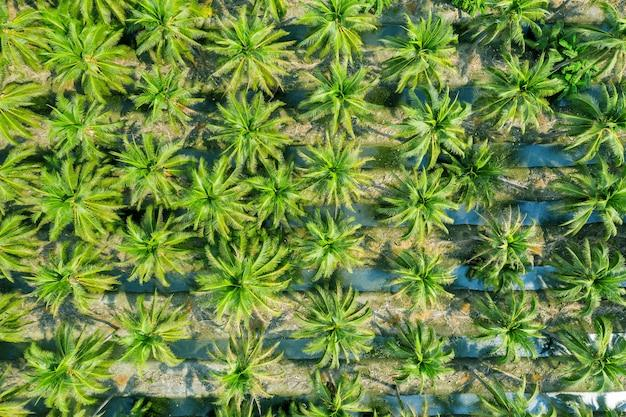coconut_tree: (194, 245, 280, 319), (456, 209, 542, 283), (288, 212, 374, 286), (201, 323, 287, 397), (389, 315, 475, 389), (299, 289, 385, 363), (210, 14, 290, 90), (297, 61, 377, 137), (378, 14, 458, 90), (303, 129, 383, 205), (171, 154, 251, 230), (117, 129, 197, 205), (37, 156, 117, 232), (21, 331, 101, 407), (392, 168, 472, 244), (483, 53, 563, 129), (402, 90, 482, 166), (296, 0, 376, 75), (119, 293, 192, 373), (51, 23, 130, 91), (548, 2, 625, 67), (474, 0, 551, 64), (553, 245, 625, 312), (556, 327, 625, 394), (475, 291, 544, 358), (243, 168, 306, 219)
